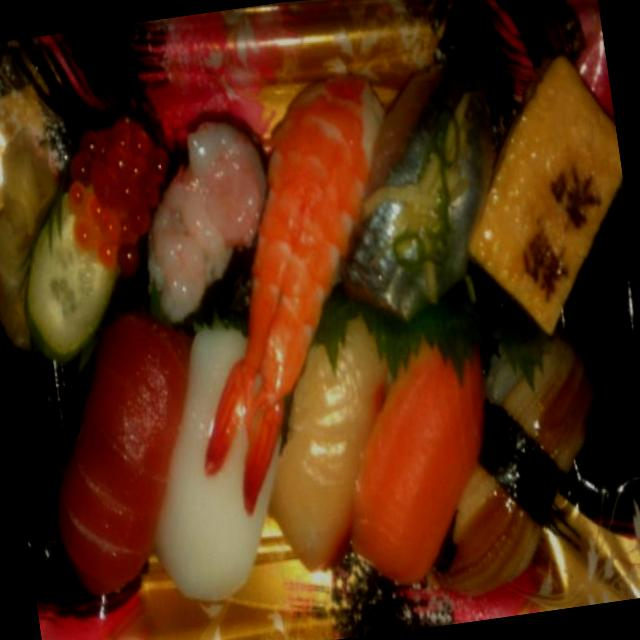Sushi: (0, 257, 519, 640)
